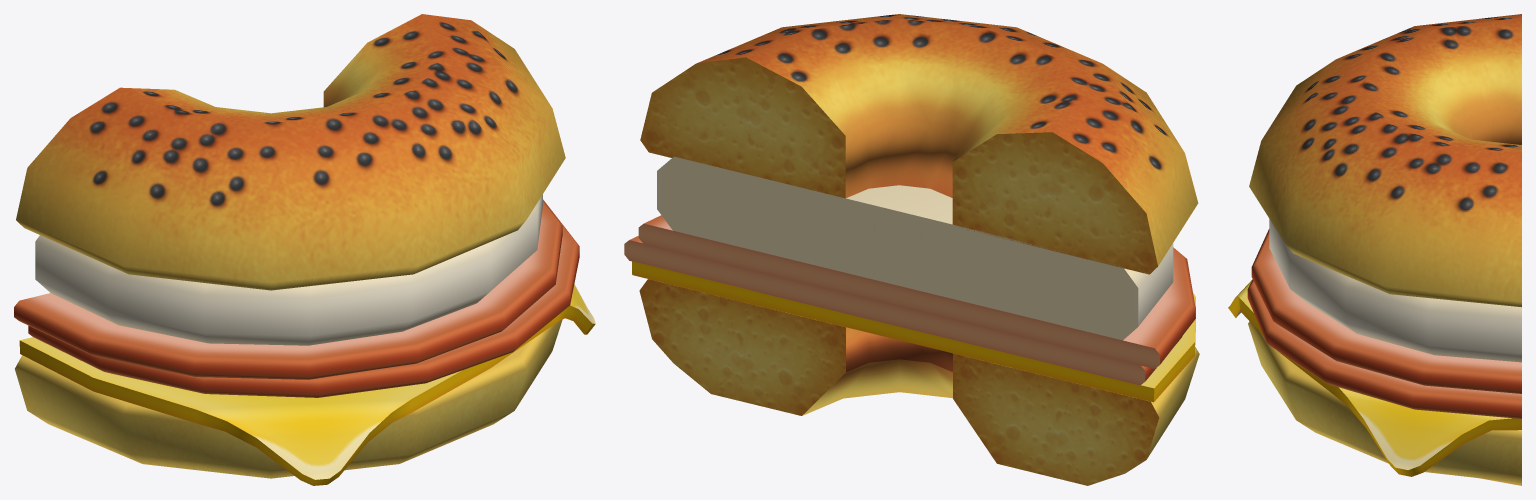
File: Bagel_Breakfast_Half_02.fbx
The picture shows the model from 3 angles, left to right: view 1: azimuth 30°, elevation 25°; view 2: azimuth 150°, elevation 25°; view 3: azimuth 270°, elevation 25°; orthographic projection. The views are drawn at different scales.
Visible parts, largest first — view 1: Bagel_Breakfast_Half_02; view 2: Bagel_Breakfast_Half_02; view 3: Bagel_Breakfast_Half_02.
Part boxes in pixels (x1,y1,x2,y2): Bagel_Breakfast_Half_02: [14, 14, 595, 485]; Bagel_Breakfast_Half_02: [624, 14, 1199, 485]; Bagel_Breakfast_Half_02: [1228, 14, 1521, 485].
Size of the model in its own units: 50.36 by 31.01 by 26.25.
